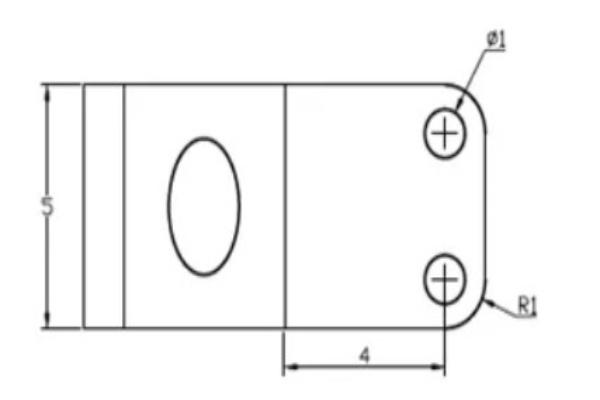dimensions: (476, 18, 516, 52), (343, 344, 387, 367), (512, 288, 543, 320), (32, 195, 60, 219)
